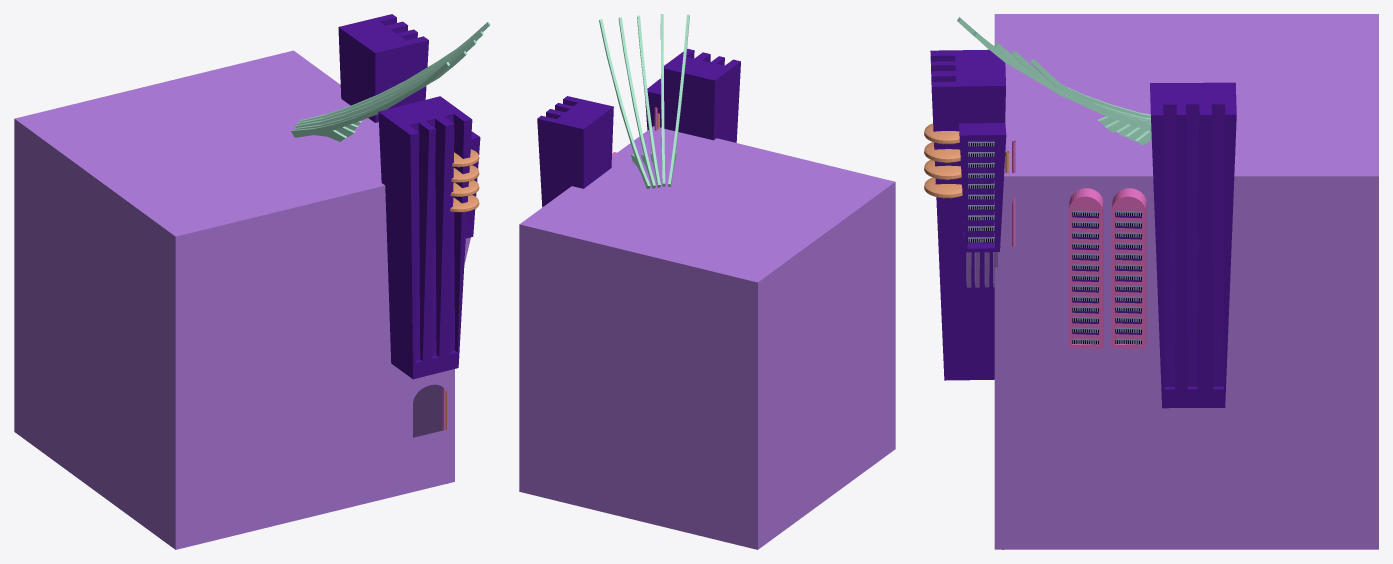
The model's file is exterioredificio.fbx.
3 views of the same model, side by side, from view 1: azimuth 30°, elevation 25°; view 2: azimuth 150°, elevation 25°; view 3: azimuth 270°, elevation 25° (orthographic). The views are drawn at different scales.
Visible parts, largest first — view 1: Cube.002, Cube.027, Cube.029, Plane.537, Plane.535, Plane.538, Plane.534, Sphere.009, Sphere.010, Plane.536; view 2: Cube.002, Cube.029, Cube.027, Plane.538, Plane.534, Plane.535, Plane.537, Plane.536, Cube.028; view 3: Cube.002, Cube.029, Cube.027, Cube.028, Cylinder.252, Cylinder.253, Plane.527, Plane.528, Plane.533, Sphere.009, Plane.538, Sphere.010 (+4 smaller).
Part boxes in pixels (left/top/right/bottom): Cube.002: left=14, top=50, right=454, bottom=549; Cube.027: left=378, top=96, right=472, bottom=379; Cube.029: left=338, top=14, right=428, bottom=122; Plane.537: left=291, top=62, right=449, bottom=141; Plane.535: left=295, top=40, right=476, bottom=130; Plane.538: left=299, top=22, right=490, bottom=122; Plane.534: left=297, top=31, right=483, bottom=125; Sphere.009: left=450, top=165, right=479, bottom=212; Sphere.010: left=450, top=149, right=479, bottom=196; Plane.536: left=295, top=51, right=466, bottom=136; Cube.002: left=519, top=126, right=895, bottom=549; Cube.029: left=537, top=96, right=613, bottom=207; Cube.027: left=664, top=48, right=740, bottom=142; Plane.538: left=599, top=19, right=650, bottom=188; Plane.534: left=618, top=17, right=655, bottom=188; Plane.535: left=637, top=15, right=660, bottom=187; Plane.537: left=668, top=14, right=689, bottom=186; Plane.536: left=660, top=14, right=665, bottom=186; Cube.028: left=645, top=78, right=668, bottom=130; Cube.002: left=994, top=14, right=1378, bottom=549; Cube.029: left=1150, top=82, right=1236, bottom=408; Cube.027: left=930, top=49, right=1005, bottom=380; Cube.028: left=958, top=123, right=1006, bottom=252; Cylinder.252: left=1068, top=188, right=1103, bottom=348; Cylinder.253: left=1111, top=188, right=1146, bottom=348; Plane.527: left=1072, top=210, right=1098, bottom=344; Plane.528: left=1115, top=210, right=1141, bottom=344; Plane.533: left=963, top=141, right=994, bottom=243; Sphere.009: left=924, top=142, right=962, bottom=198; Plane.538: left=1030, top=59, right=1151, bottom=145; Sphere.010: left=924, top=123, right=961, bottom=179.
Size of the model in its own units: 4162 by 5267 by 4155.
